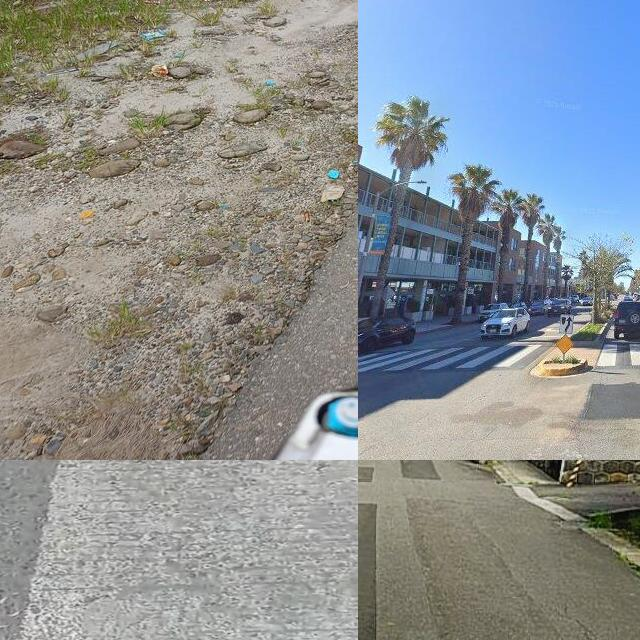Pinggir: (216, 1, 358, 349)
Sambungan: (12, 460, 358, 640), (579, 382, 640, 425), (402, 460, 440, 479), (358, 465, 372, 481)
